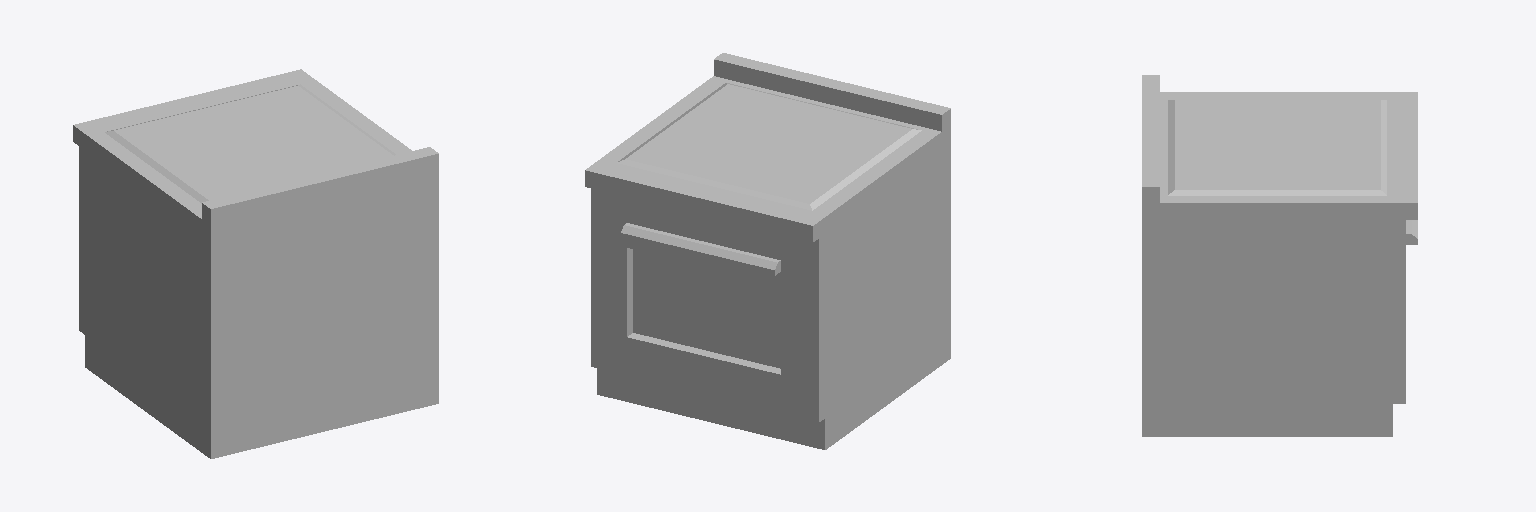
File: kitchenStoveElectric.obj
The picture shows the model from 3 angles: view 1: azimuth 30°, elevation 25°; view 2: azimuth 150°, elevation 25°; view 3: azimuth 270°, elevation 25°; orthographic projection.
Visible parts, largest first — view 1: kitchenStoveElectric; view 2: kitchenStoveElectric; view 3: kitchenStoveElectric.
Part boxes in pixels (bbox=[...]): kitchenStoveElectric: bbox=[73, 69, 438, 458]; kitchenStoveElectric: bbox=[585, 53, 950, 449]; kitchenStoveElectric: bbox=[1142, 75, 1417, 436].
Bounding box in the file's own units: 4.3 × 4.5 × 4.5.